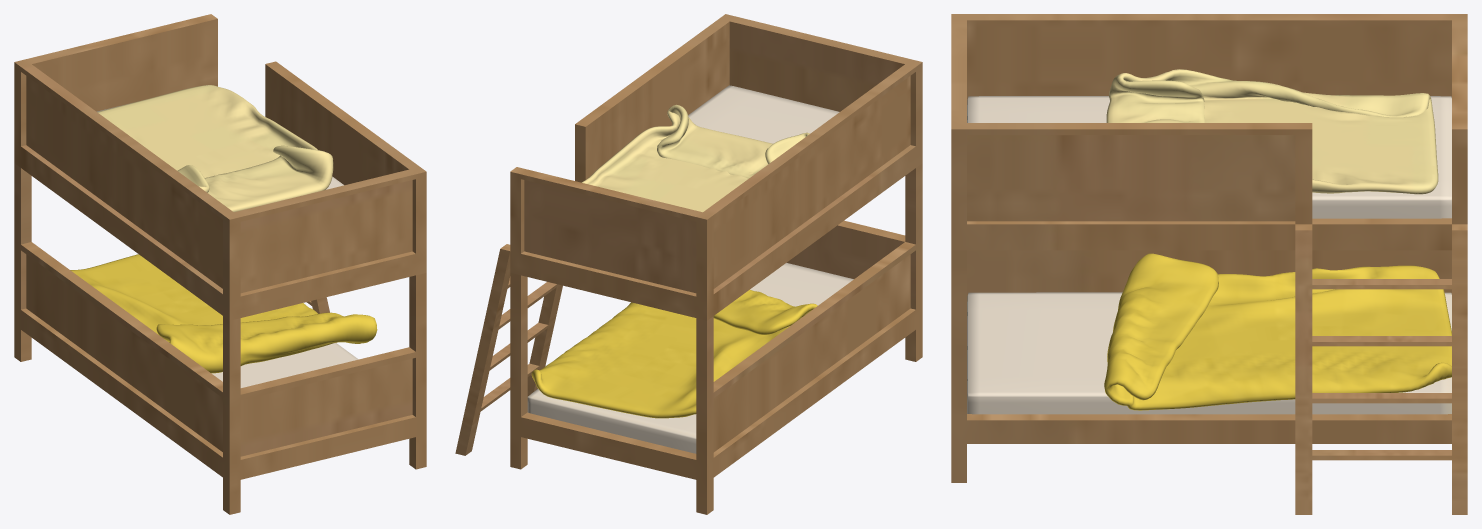
File: Bed24.glb
3 views of the same model, side by side, from view 1: azimuth 30°, elevation 25°; view 2: azimuth 150°, elevation 25°; view 3: azimuth 270°, elevation 25° (orthographic). The views are drawn at different scales.
Parts seen in each view (by area): view 1: BedFrame24, Blanket24_2, Blanket24_1, Mattress24_1; view 2: BedFrame24, Blanket24_1, Blanket24_2, Mattress24_1, Mattress24_2; view 3: BedFrame24, Blanket24_1, Mattress24_1, Blanket24_2, Mattress24_2.
Boxes of the visible parts, bbox=[...] form: BedFrame24: bbox=[14, 14, 426, 514]; Blanket24_2: bbox=[97, 85, 333, 212]; Blanket24_1: bbox=[70, 254, 377, 373]; Mattress24_1: bbox=[211, 343, 358, 387]; BedFrame24: bbox=[455, 14, 922, 514]; Blanket24_1: bbox=[531, 289, 817, 418]; Blanket24_2: bbox=[582, 104, 809, 212]; Mattress24_1: bbox=[527, 263, 853, 453]; Mattress24_2: bbox=[688, 85, 839, 143]; BedFrame24: bbox=[951, 14, 1467, 514]; Blanket24_1: bbox=[1104, 253, 1451, 410]; Mattress24_1: bbox=[967, 292, 1451, 414]; Blanket24_2: bbox=[1106, 69, 1438, 194]; Mattress24_2: bbox=[967, 96, 1451, 218].
Size of the model in its own units: 3.32 by 3.73 by 4.93.
3 materials, 3 textured.
